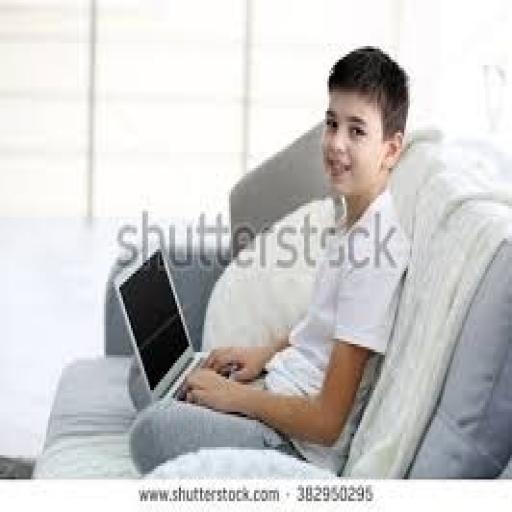using_laptop: (112, 247, 266, 417)
